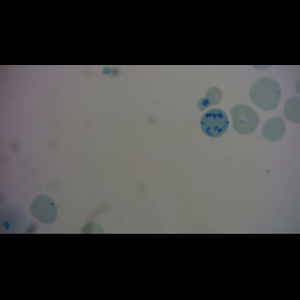aggregate reticulocyte: (199, 107, 230, 139)
erythrocyte: (229, 103, 261, 136), (260, 116, 287, 142)
punctate reticulocyte: (248, 76, 283, 112), (29, 195, 58, 225)
